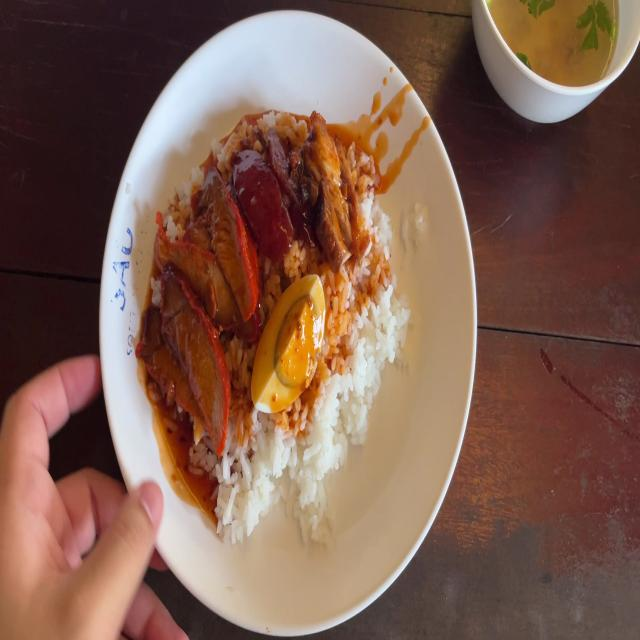01boiled_egg: (260, 278, 324, 410)
01chainese_sausage: (236, 125, 306, 254)
01crispy_pork: (308, 119, 348, 267)
01red_pork: (157, 181, 250, 445)
01red_pork_and_crispy_pork: (164, 115, 408, 533)
01rice: (328, 193, 398, 419), (220, 412, 340, 532)
